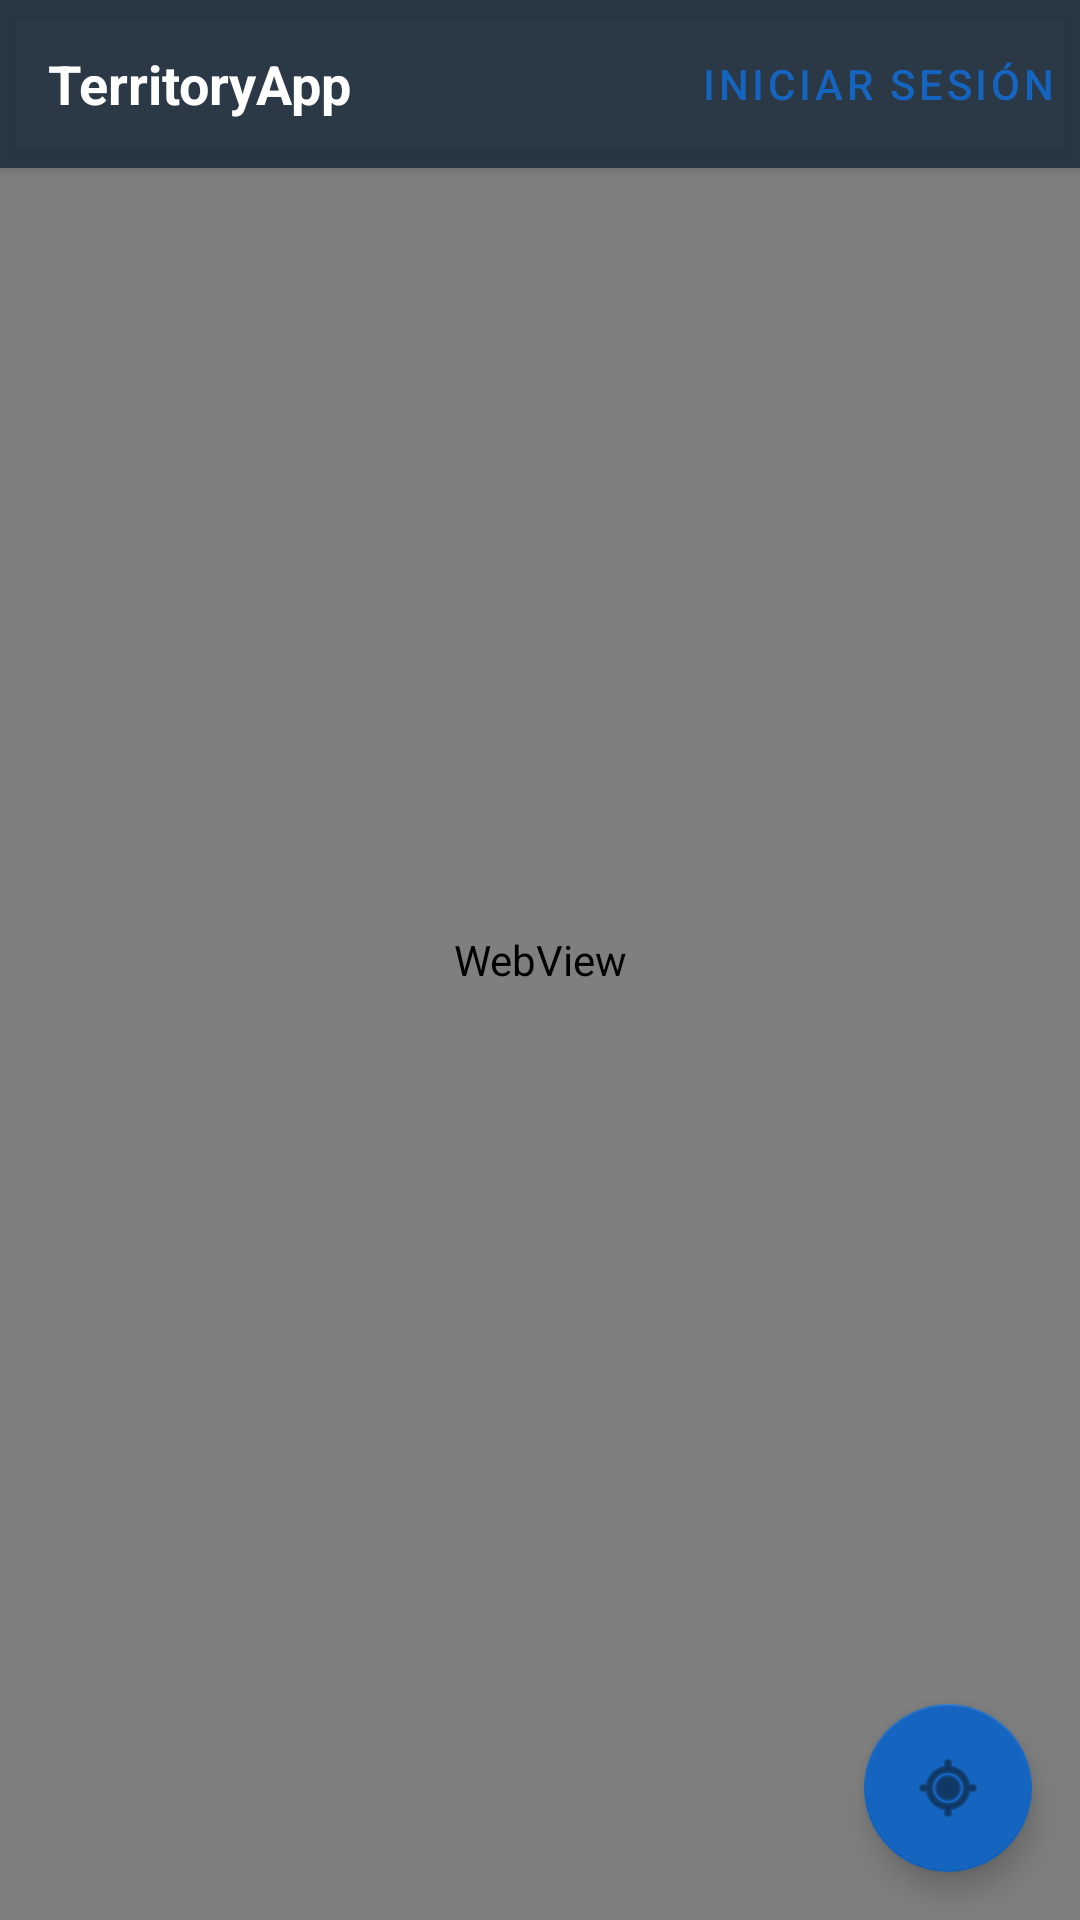

Named icons in this screenshot (1080×1920) and their bounding boxes, {"x1": x1, "y1": y1, "x2": x2, "y2": y2}:
mylocation: {"x1": 864, "y1": 1704, "x2": 1032, "y2": 1872}
